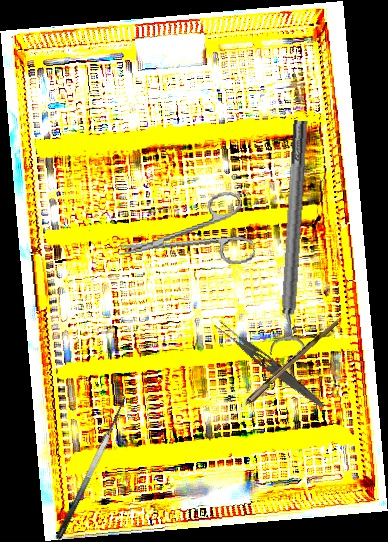Dressing Forceps: (210, 316, 330, 412)
Fixation Ring: (266, 119, 322, 358)
Iris Scissors: (111, 188, 257, 285)
Spatula Surgical: (42, 388, 135, 541)
Surgical Spoon: (214, 317, 339, 435)
